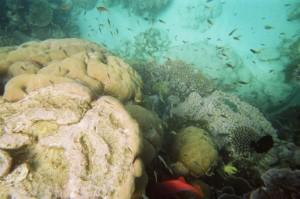bleached_corals: (0, 39, 142, 198), (170, 72, 285, 167), (151, 48, 217, 114)
